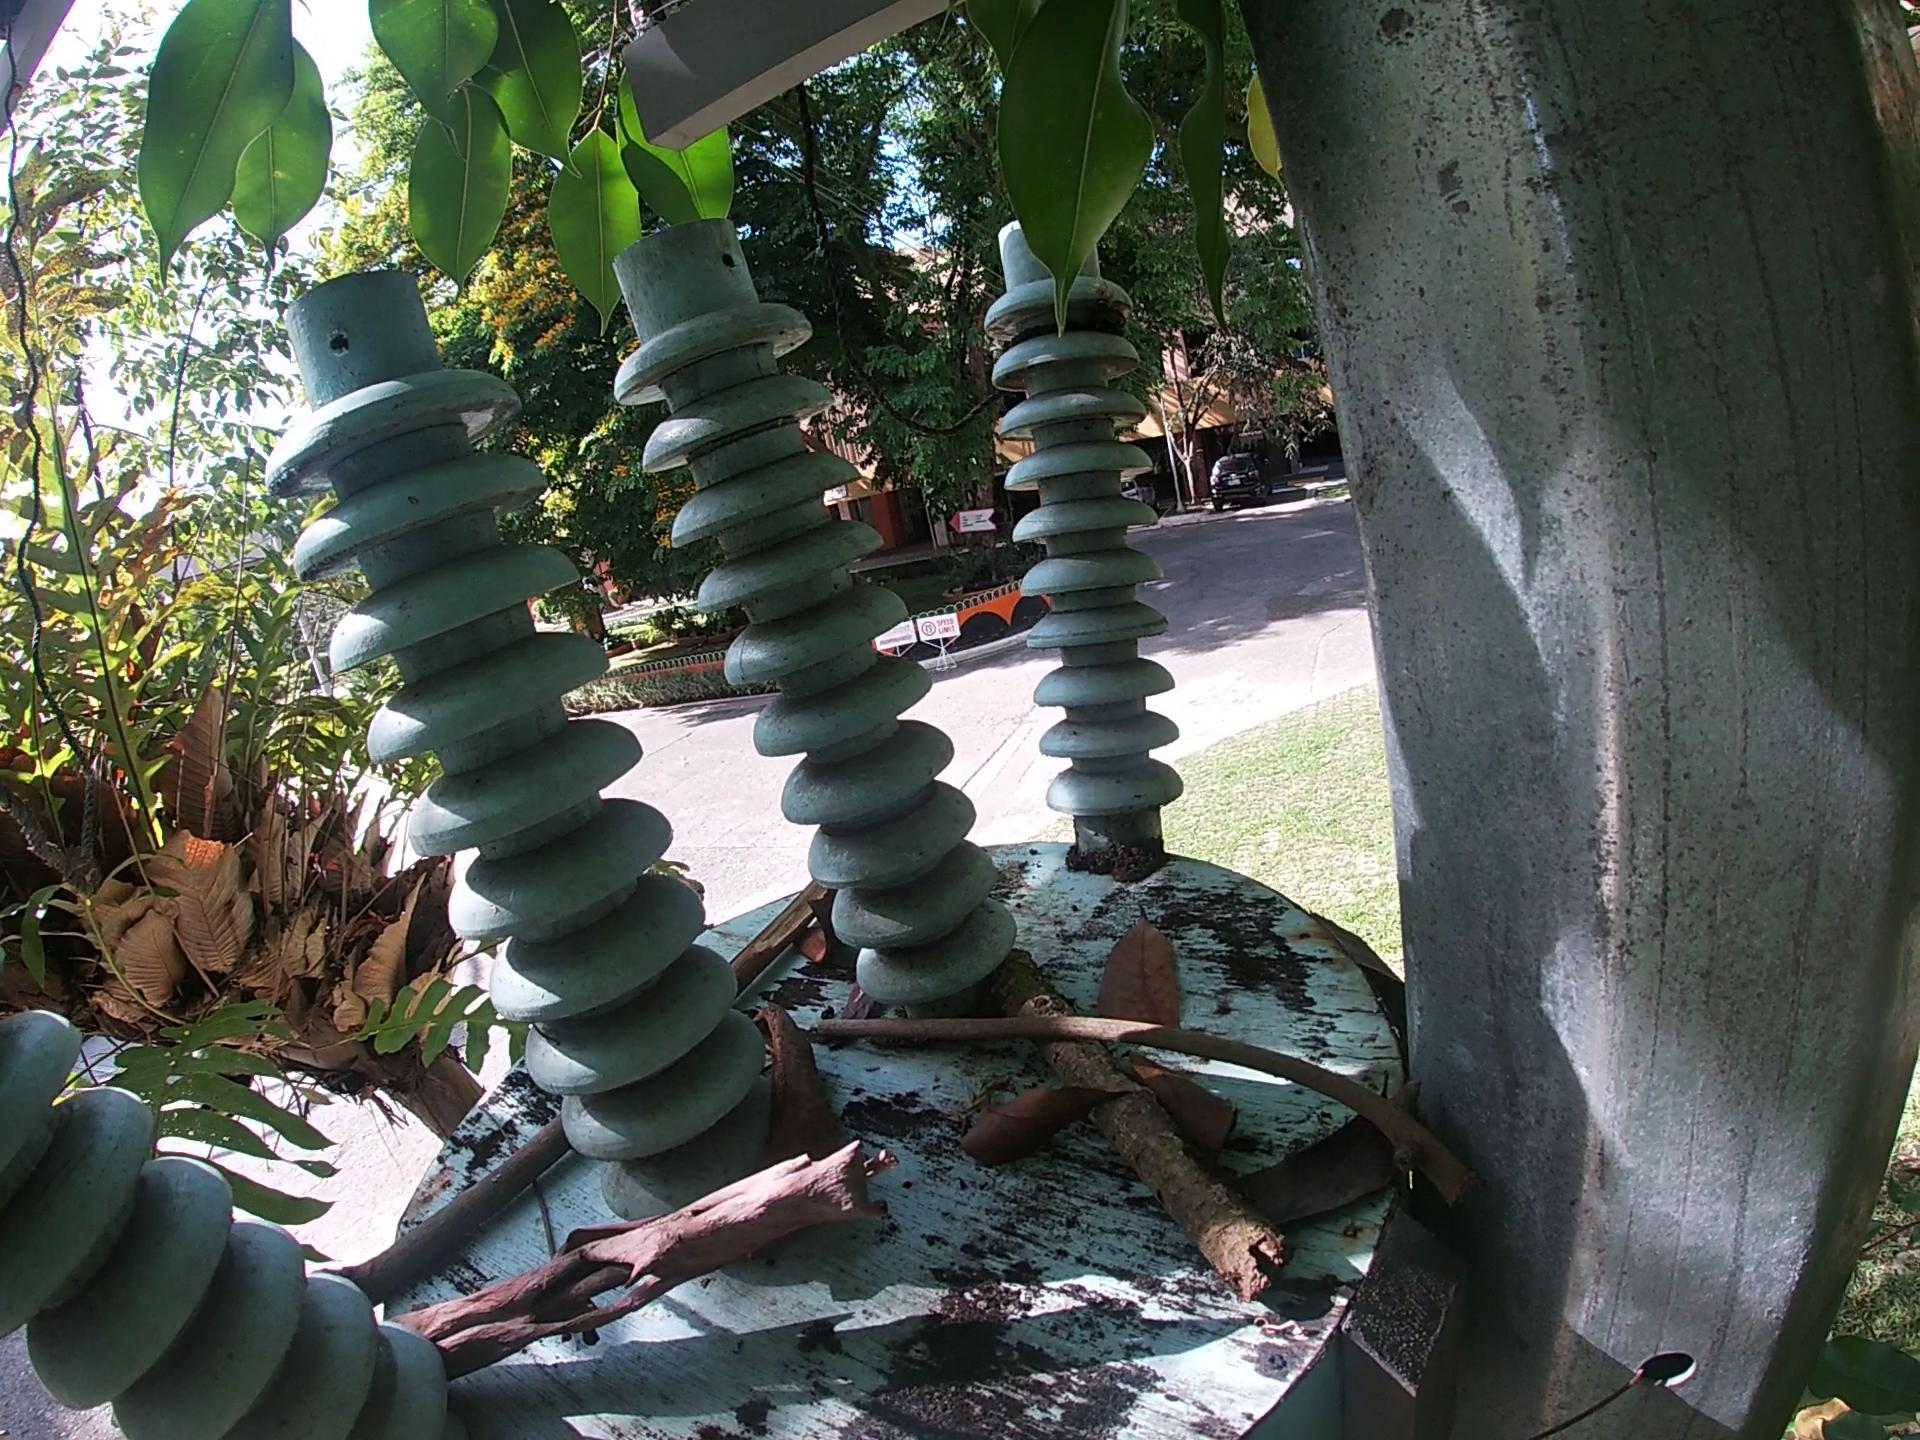leaf: (1231, 1072, 1429, 1230), (955, 1078, 1141, 1168), (1126, 1041, 1240, 1172), (1098, 902, 1191, 1030)
mahogany fruit: (741, 995, 835, 1172), (785, 882, 848, 973)
tree branch: (798, 995, 1485, 1216), (379, 1133, 918, 1383), (980, 939, 1296, 1314), (314, 1118, 578, 1310), (721, 864, 838, 998)
